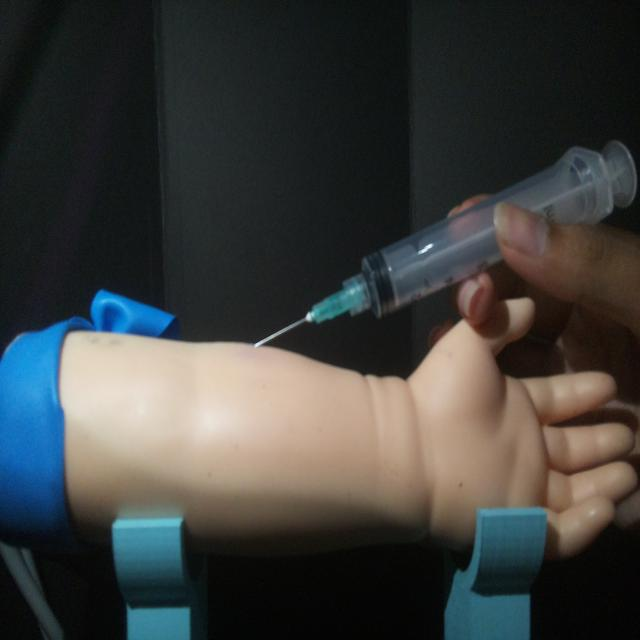25deg: (249, 134, 636, 352)
